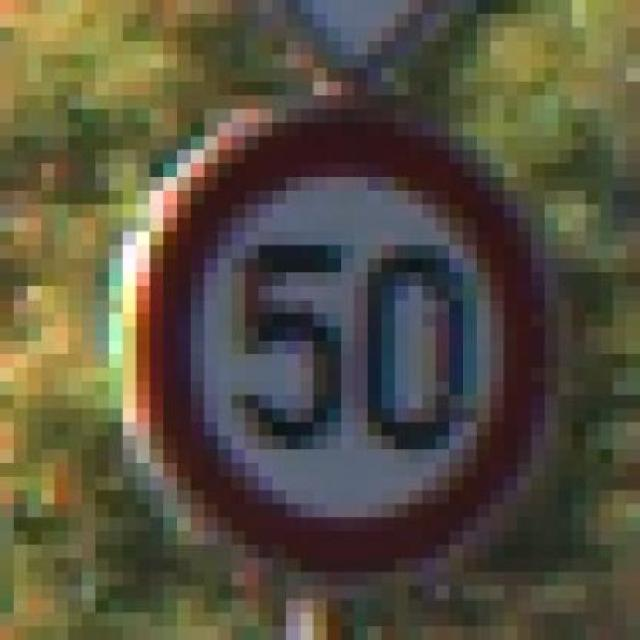forb_speed_over_50: (147, 106, 544, 569)
